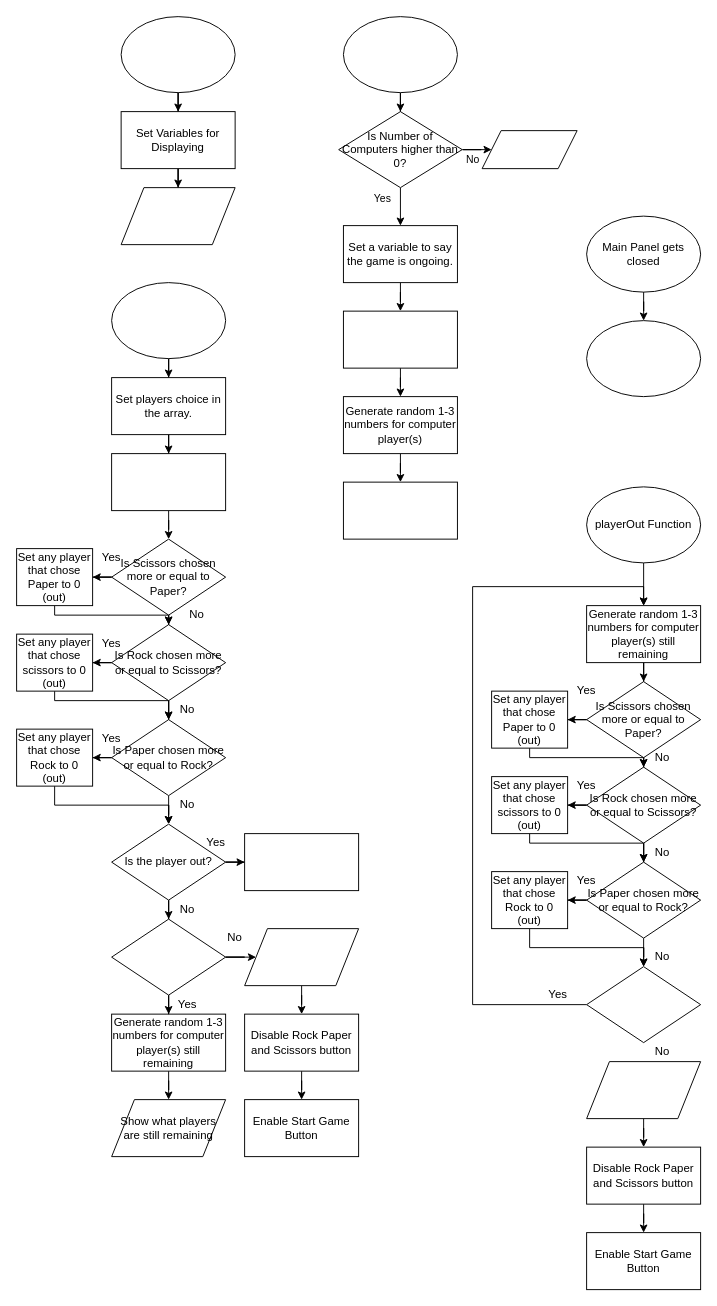
The diagram is 717 pixels wide and 1306 high, and some of its shapes have lost their labels. The centre of each missing label's shape, as x and y in pixels:
Are any computers remaining?: pixel 168 956
Call playerOut function: pixel 301 862
Count the different RPS choice: pixel 168 482
Create an array containing all of this rounds players. (Plus Computers): pixel 399 339
Disable New Game button, enable Rock, Paper, and Scissor button.: pixel 399 510
Display that the user won: pixel 301 957
Display the computer that won: pixel 643 1090
More than 1 player remaining?: pixel 643 1004
New Game button Pushed: pixel 399 54
Program Ends: pixel 643 358
Rock, Paper, or Scissor button pushed.: pixel 168 320
Show an error: pixel 529 149
Show Panel: pixel 177 216
Start: pixel 177 54
